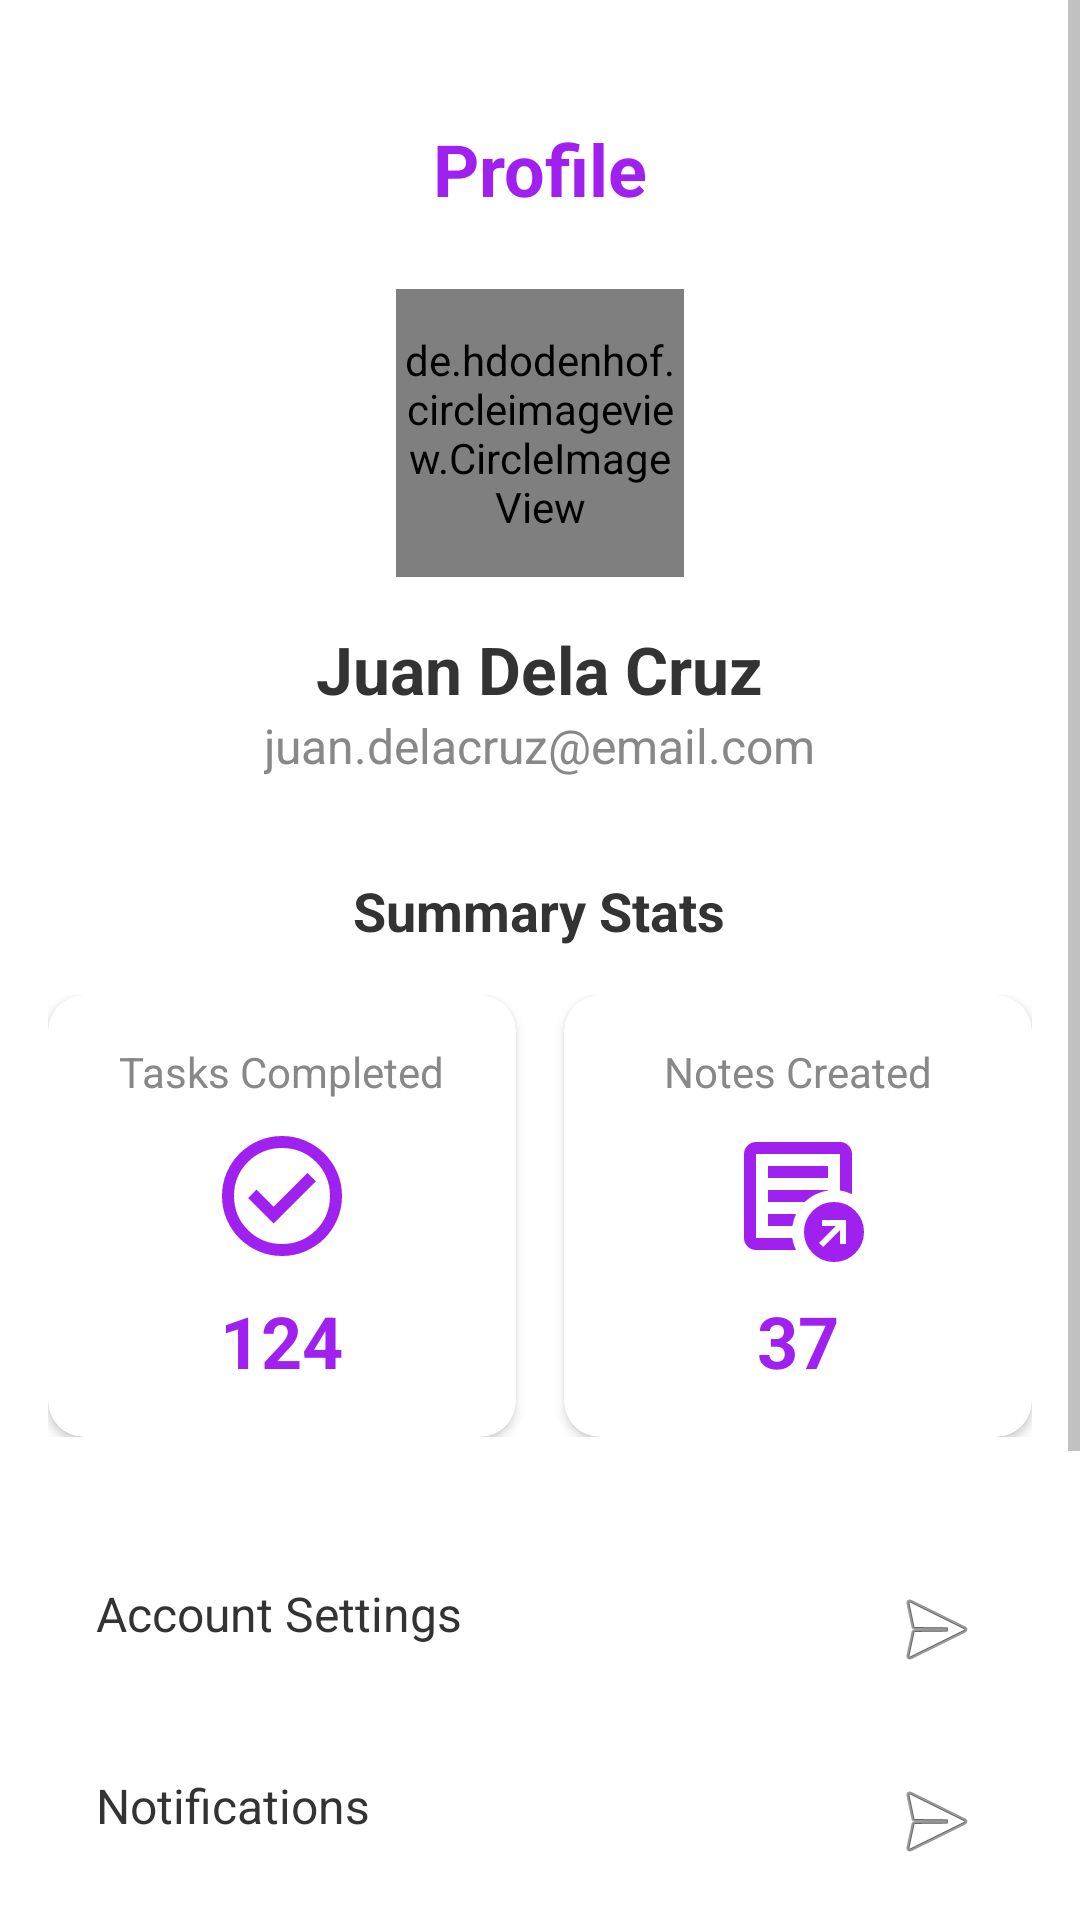

Icon click points for this 1080×1920 phone screenshot, format [x,y]:
check circle: [282,1196]
